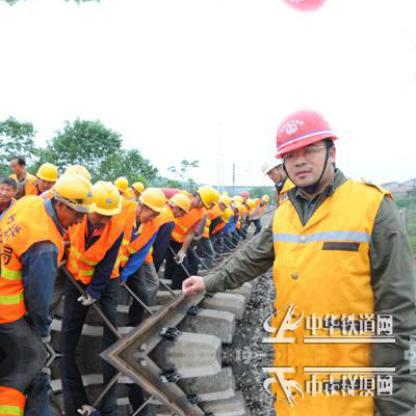head: (6, 151, 27, 177), (0, 173, 17, 202)
helmet: (263, 96, 344, 192), (51, 168, 92, 220), (262, 0, 344, 23), (85, 179, 121, 226), (255, 148, 288, 186), (136, 186, 165, 219), (33, 157, 57, 191), (166, 189, 193, 218), (195, 186, 216, 209), (131, 179, 146, 194)
